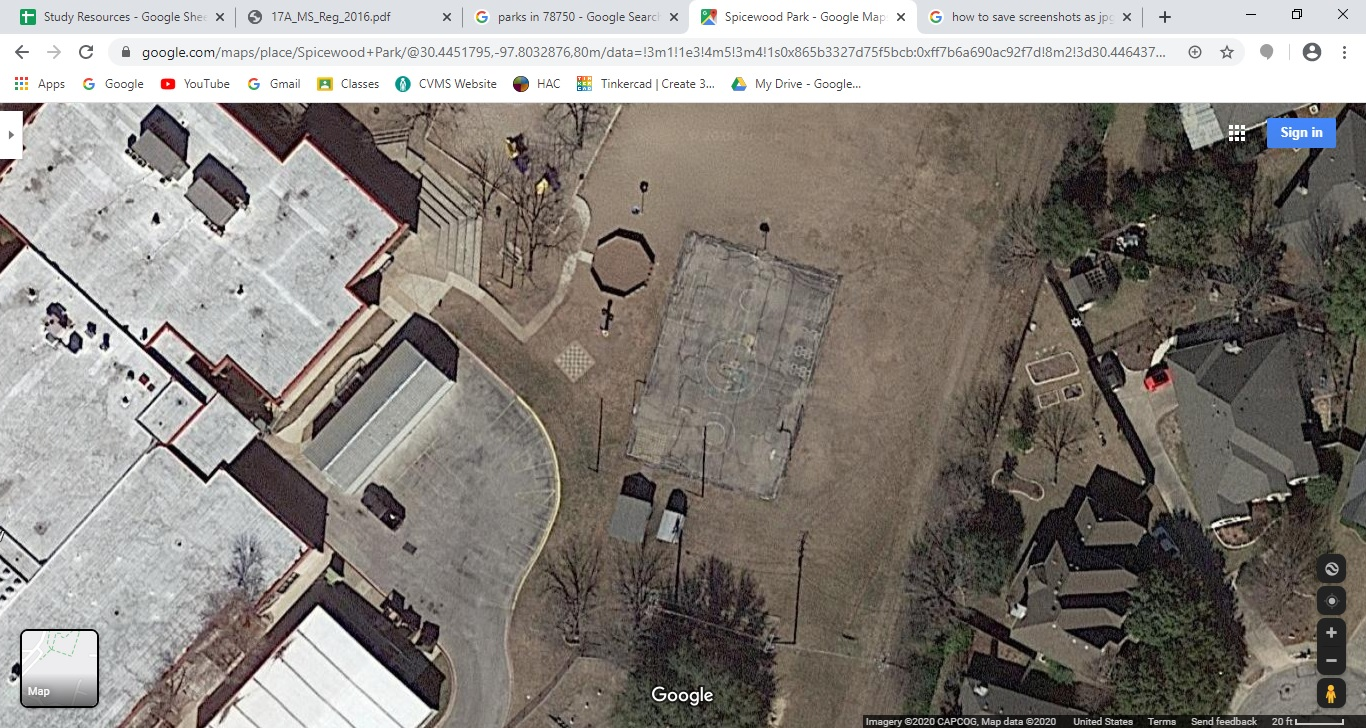basketball: (620, 227, 872, 531)
